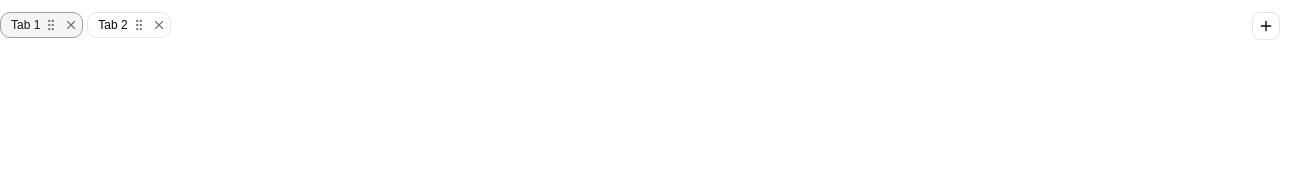
TabBar › Escape huỷ đổi tên, không ghi tên mới
The width and height of the screenshot is (1292, 172).
Double-click the tab "Tab 2".
double_click(113, 25)  # box [98, 13, 128, 37]
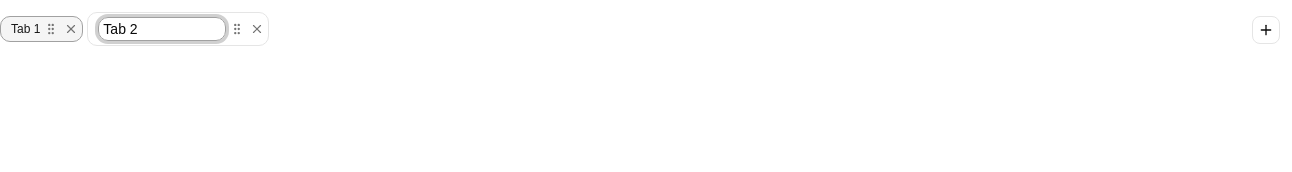
Replace the text in the field named "Đổi tên tab Tab 2" with "Không lưu" at (162, 29), box [98, 17, 226, 41]
Then press Escape
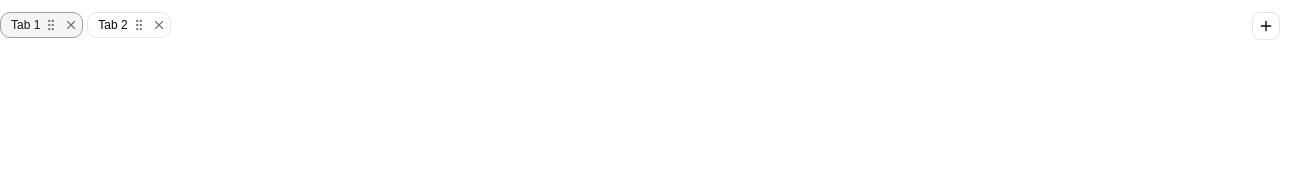
Expected: the tab "Tab 2" is shown, [98, 13, 128, 37]
